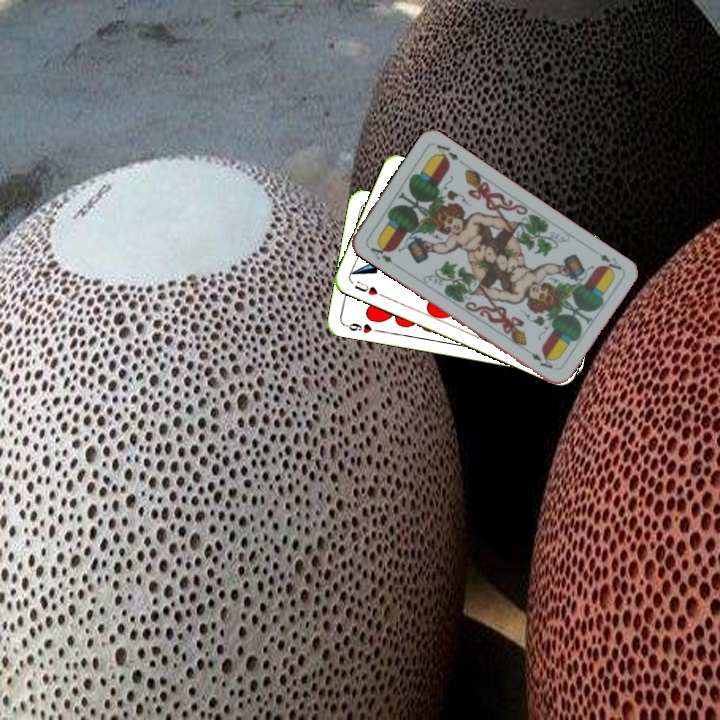EA: (363, 239, 395, 266), (595, 250, 624, 276)
H9: (341, 319, 381, 336)
HU: (350, 277, 387, 300)
